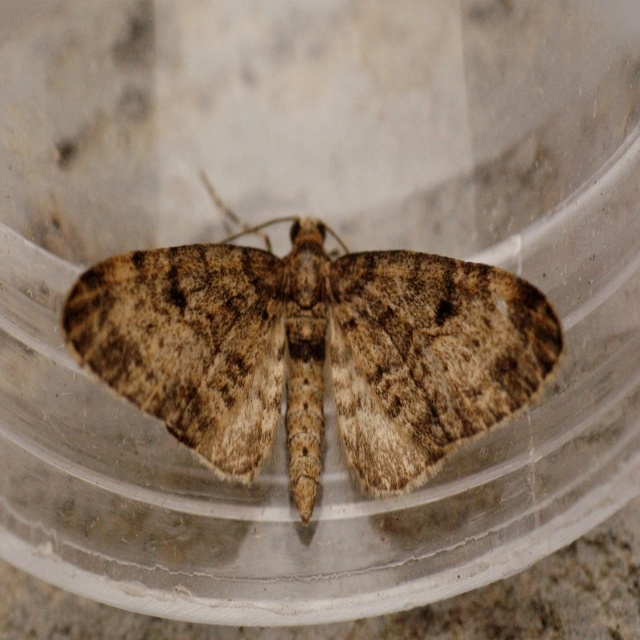Moths and butterflies: (62, 207, 568, 528)
